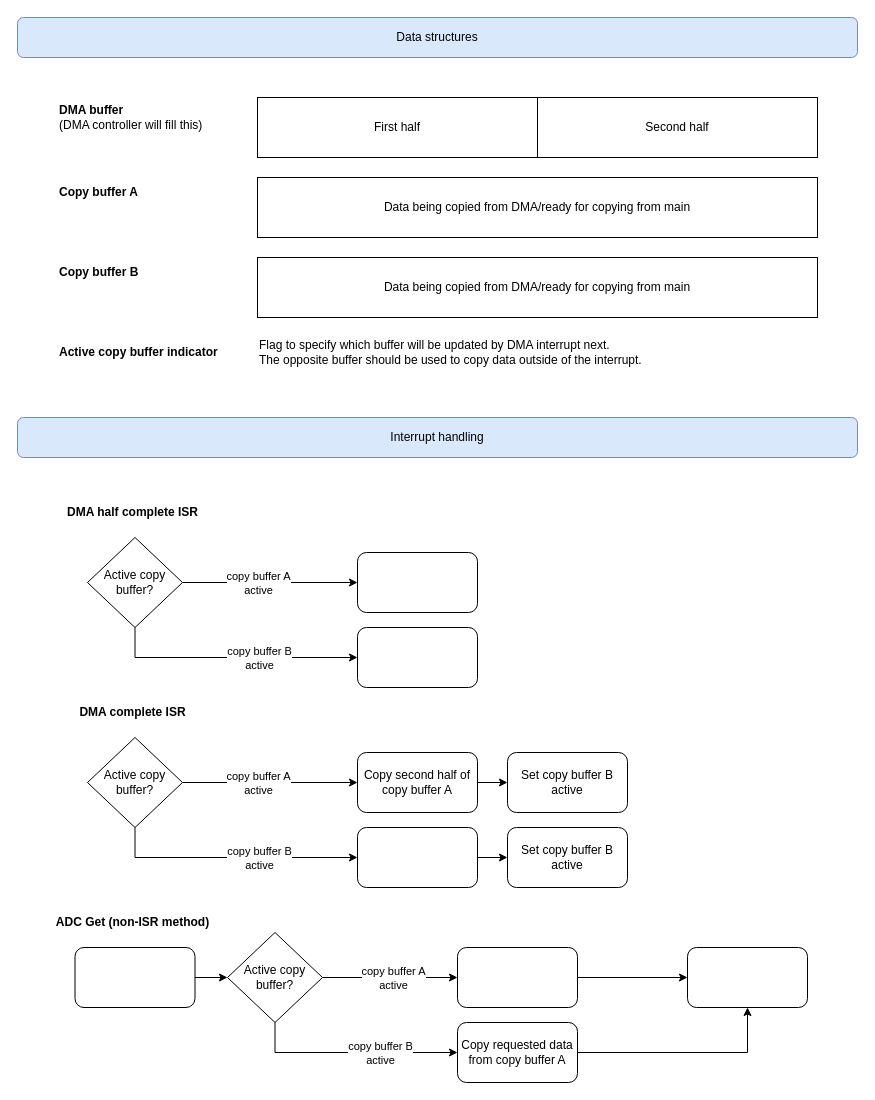
The diagram is 875 pixels wide and 1100 high, and some of its shapes have lost their labels. Each missing label, with the centre of its shape:
"Copy first half of array to copy buffer A" goes at (417,582).
"Copy first half of array to copy buffer B" goes at (417,657).
"Copy requested data from copy buffer B" goes at (517,977).
"Copy second half of copy buffer B" goes at (417,857).
"Deactivate ADC interrupts" goes at (134,977).
"Re-activate ADC interrupts" goes at (747,977).
